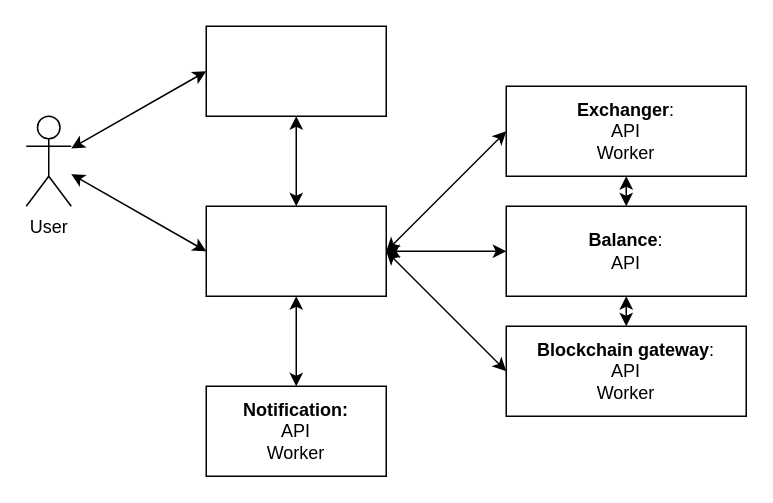
Image size: 773x503. Some labels were removed from this diagram. The box of each missing label's shape, as (x1, y1, x2, y2) in pixels:
Auth service: (205, 25, 386, 116)
Wallet : API Worker: (205, 205, 386, 296)
